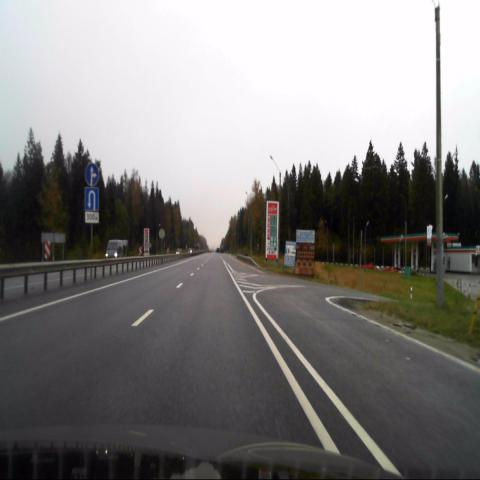4_1_4: (85, 163, 98, 187)
6_3_1: (85, 189, 98, 210)
